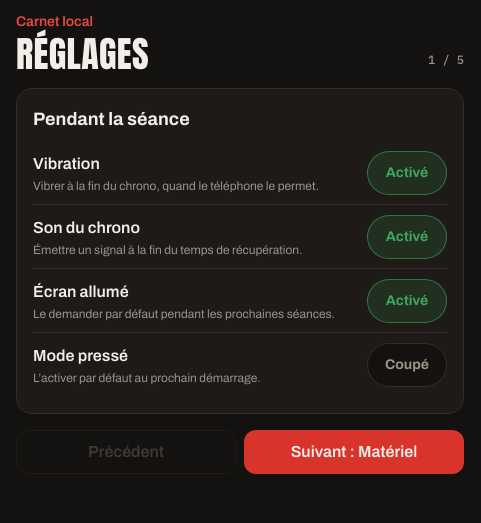
Test: réglages › conserve la valeur affichée et explique un refus d’écriture
Click the switch named "Son du chrono".
click(407, 236)  # box [367, 214, 447, 258]
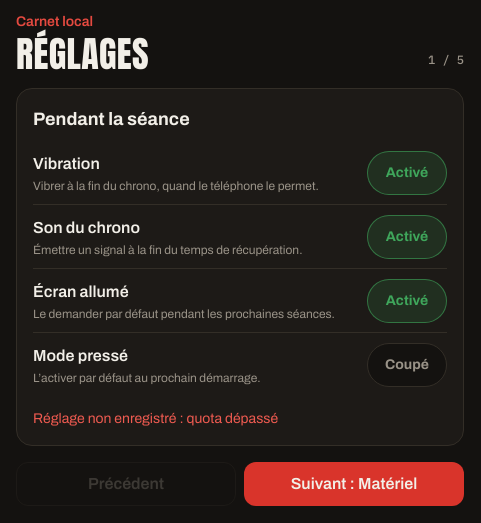
Result: the message reads "Réglage non enregistré : quota dépassé" at [33, 411, 278, 426]
